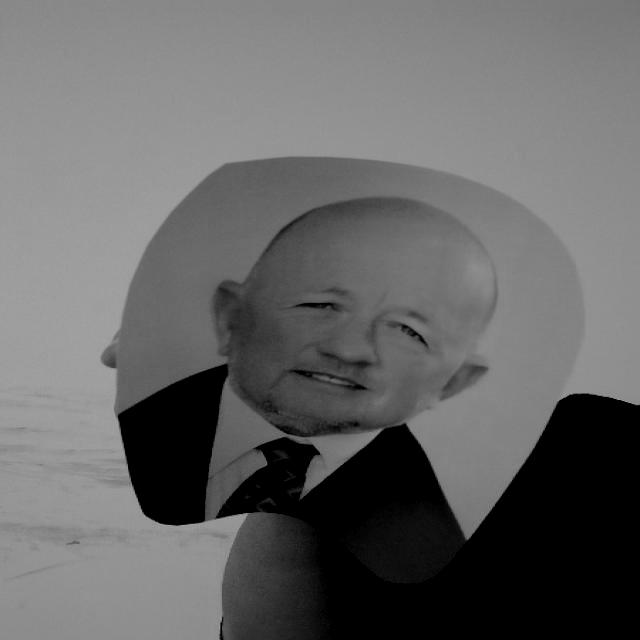fake: (117, 153, 591, 585)
